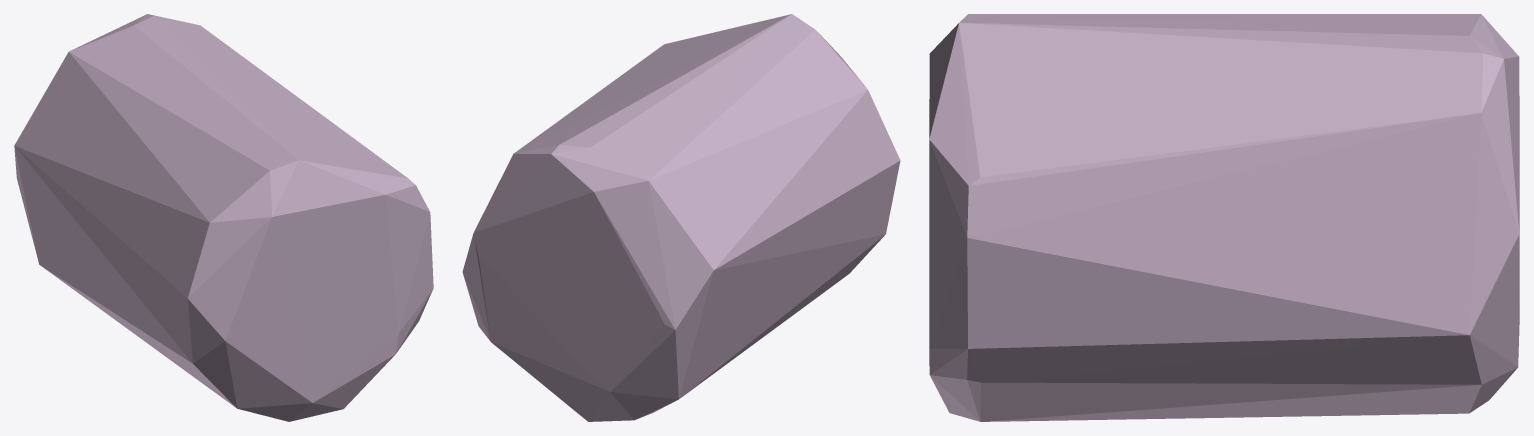
Rendered from consumable_air_filter_cylindrical_a01.glb.
The picture shows the model from 3 angles, left to right: view 1: azimuth 30°, elevation 25°; view 2: azimuth 150°, elevation 25°; view 3: azimuth 270°, elevation 25°; orthographic projection. The views are drawn at different scales.
Parts seen in each view (by area): view 1: geometry_0; view 2: geometry_0; view 3: geometry_0.
Boxes of the visible parts, x1,y1,x2,y2 form: geometry_0: [14, 14, 433, 421]; geometry_0: [462, 14, 900, 421]; geometry_0: [929, 14, 1519, 421].
Size of the model in its own units: 0.3291 by 0.3321 by 0.48.
